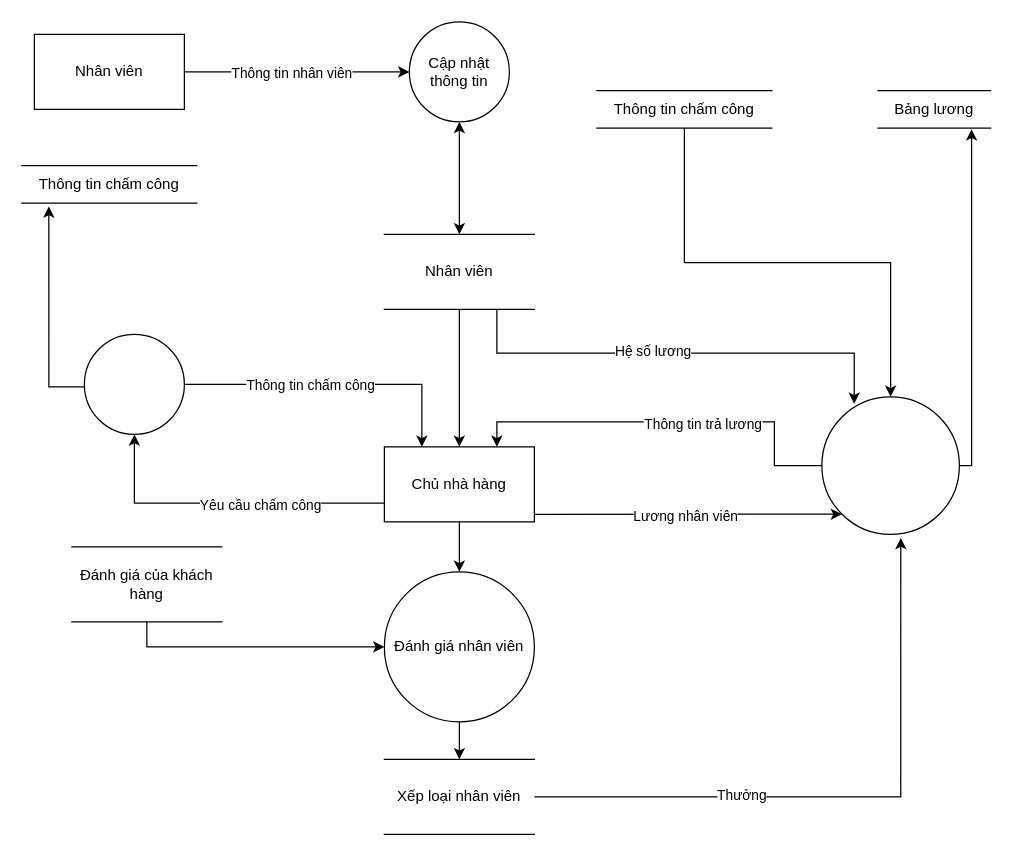
Image size: 1013x856. Some labels were removed from this diagram. The box of each missing label's shape, as (x1, y1, x2, y2) in pixels:
Chấm công: (83, 333, 184, 434)
Trả lương: (821, 396, 959, 534)
